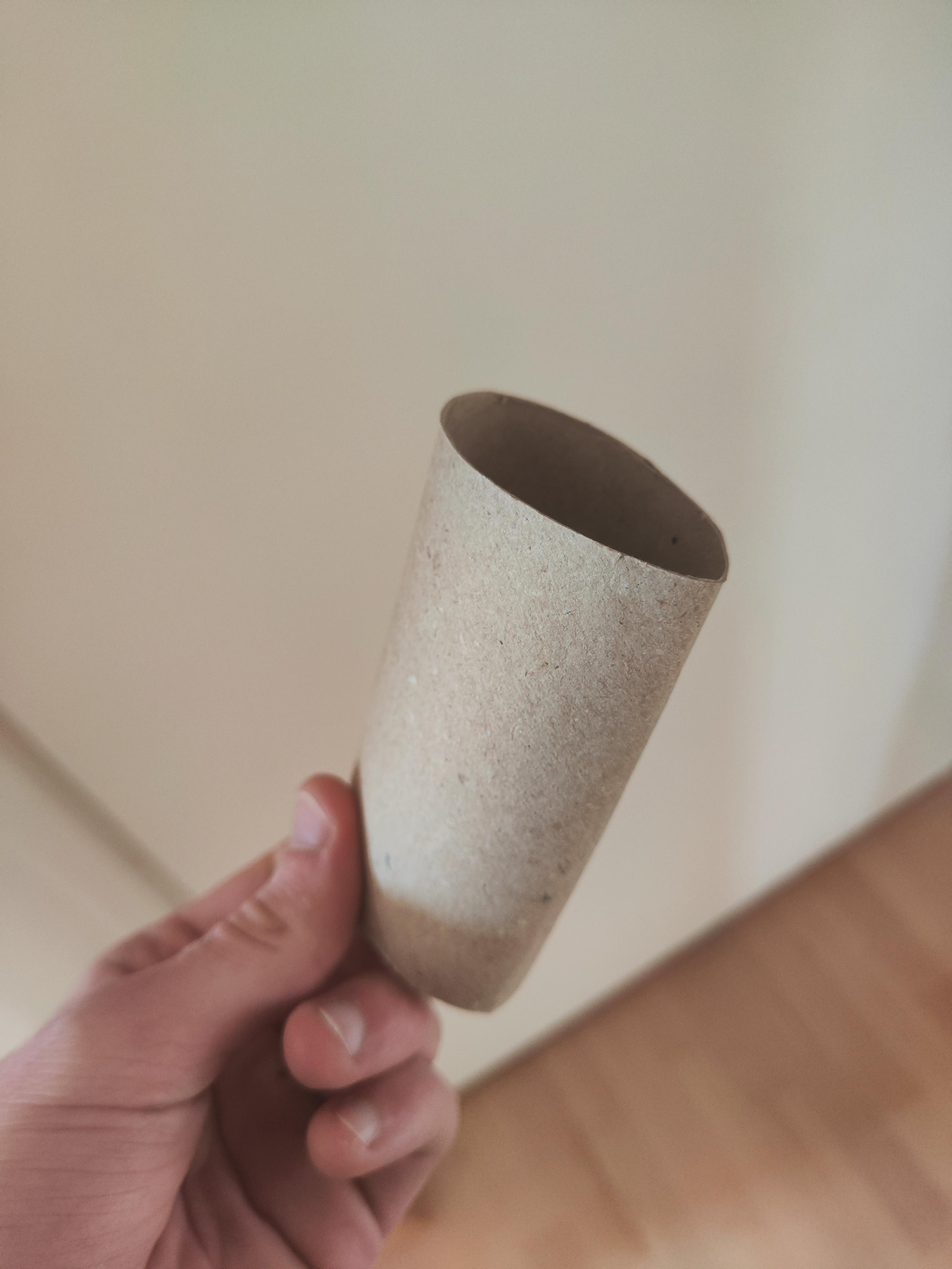Cardboard: (339, 382, 734, 1013)
